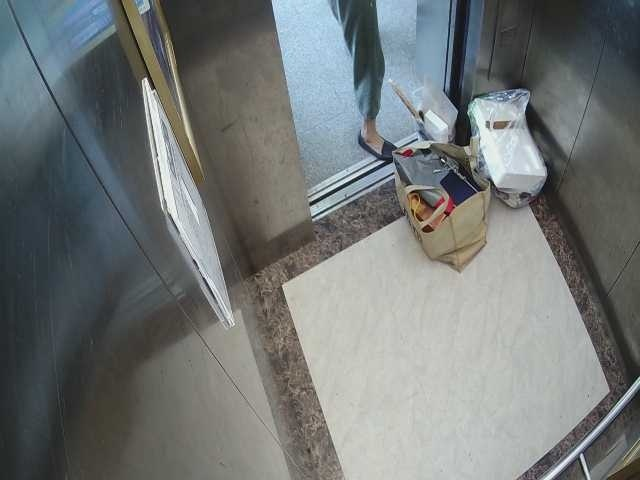bag: (396, 139, 490, 267)
